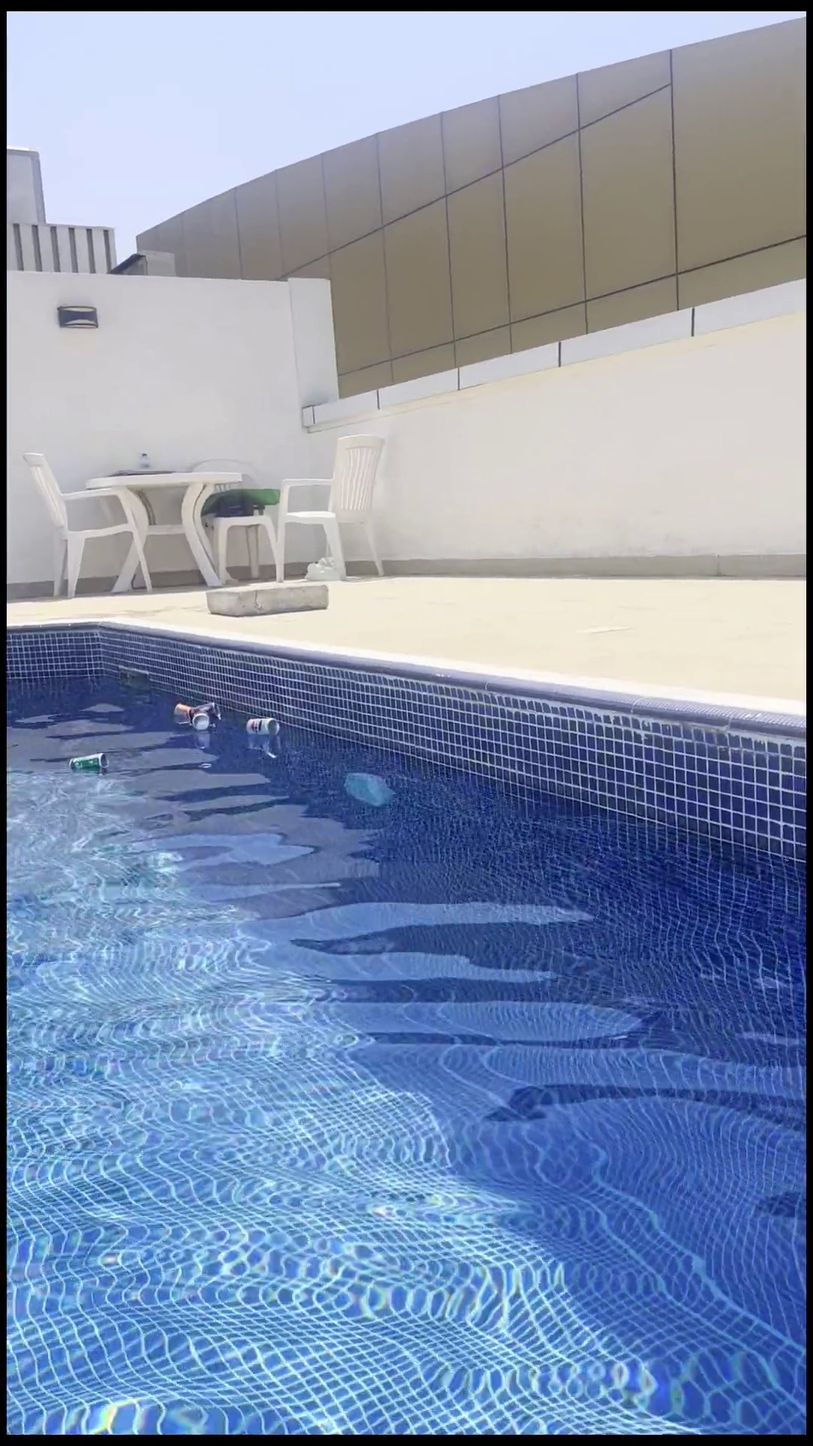debris: (64, 735, 108, 791), (242, 699, 278, 755), (169, 689, 193, 735), (196, 688, 218, 737), (193, 700, 209, 743)
